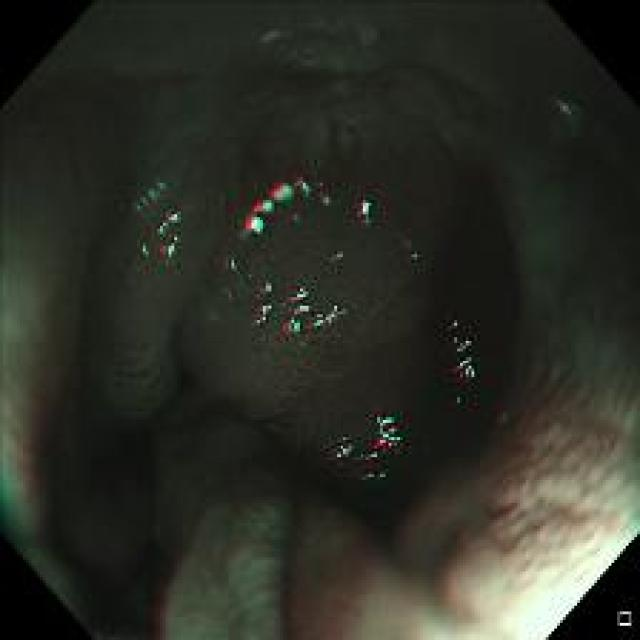blur: (314, 406, 618, 628)
color misalignment: (209, 184, 368, 338), (328, 412, 416, 482), (135, 181, 196, 270), (260, 22, 379, 66), (446, 312, 476, 404), (548, 90, 584, 129)
contrast: (76, 48, 550, 500), (30, 364, 184, 602), (370, 298, 412, 316)
